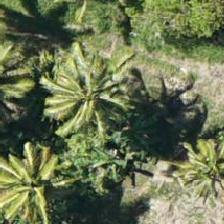coconut_tree: (51, 39, 141, 129), (0, 126, 76, 216), (159, 0, 223, 81)
